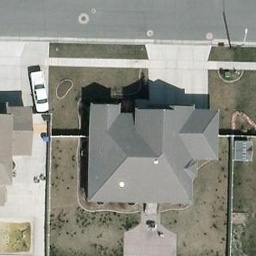car: (27, 70, 51, 112)
